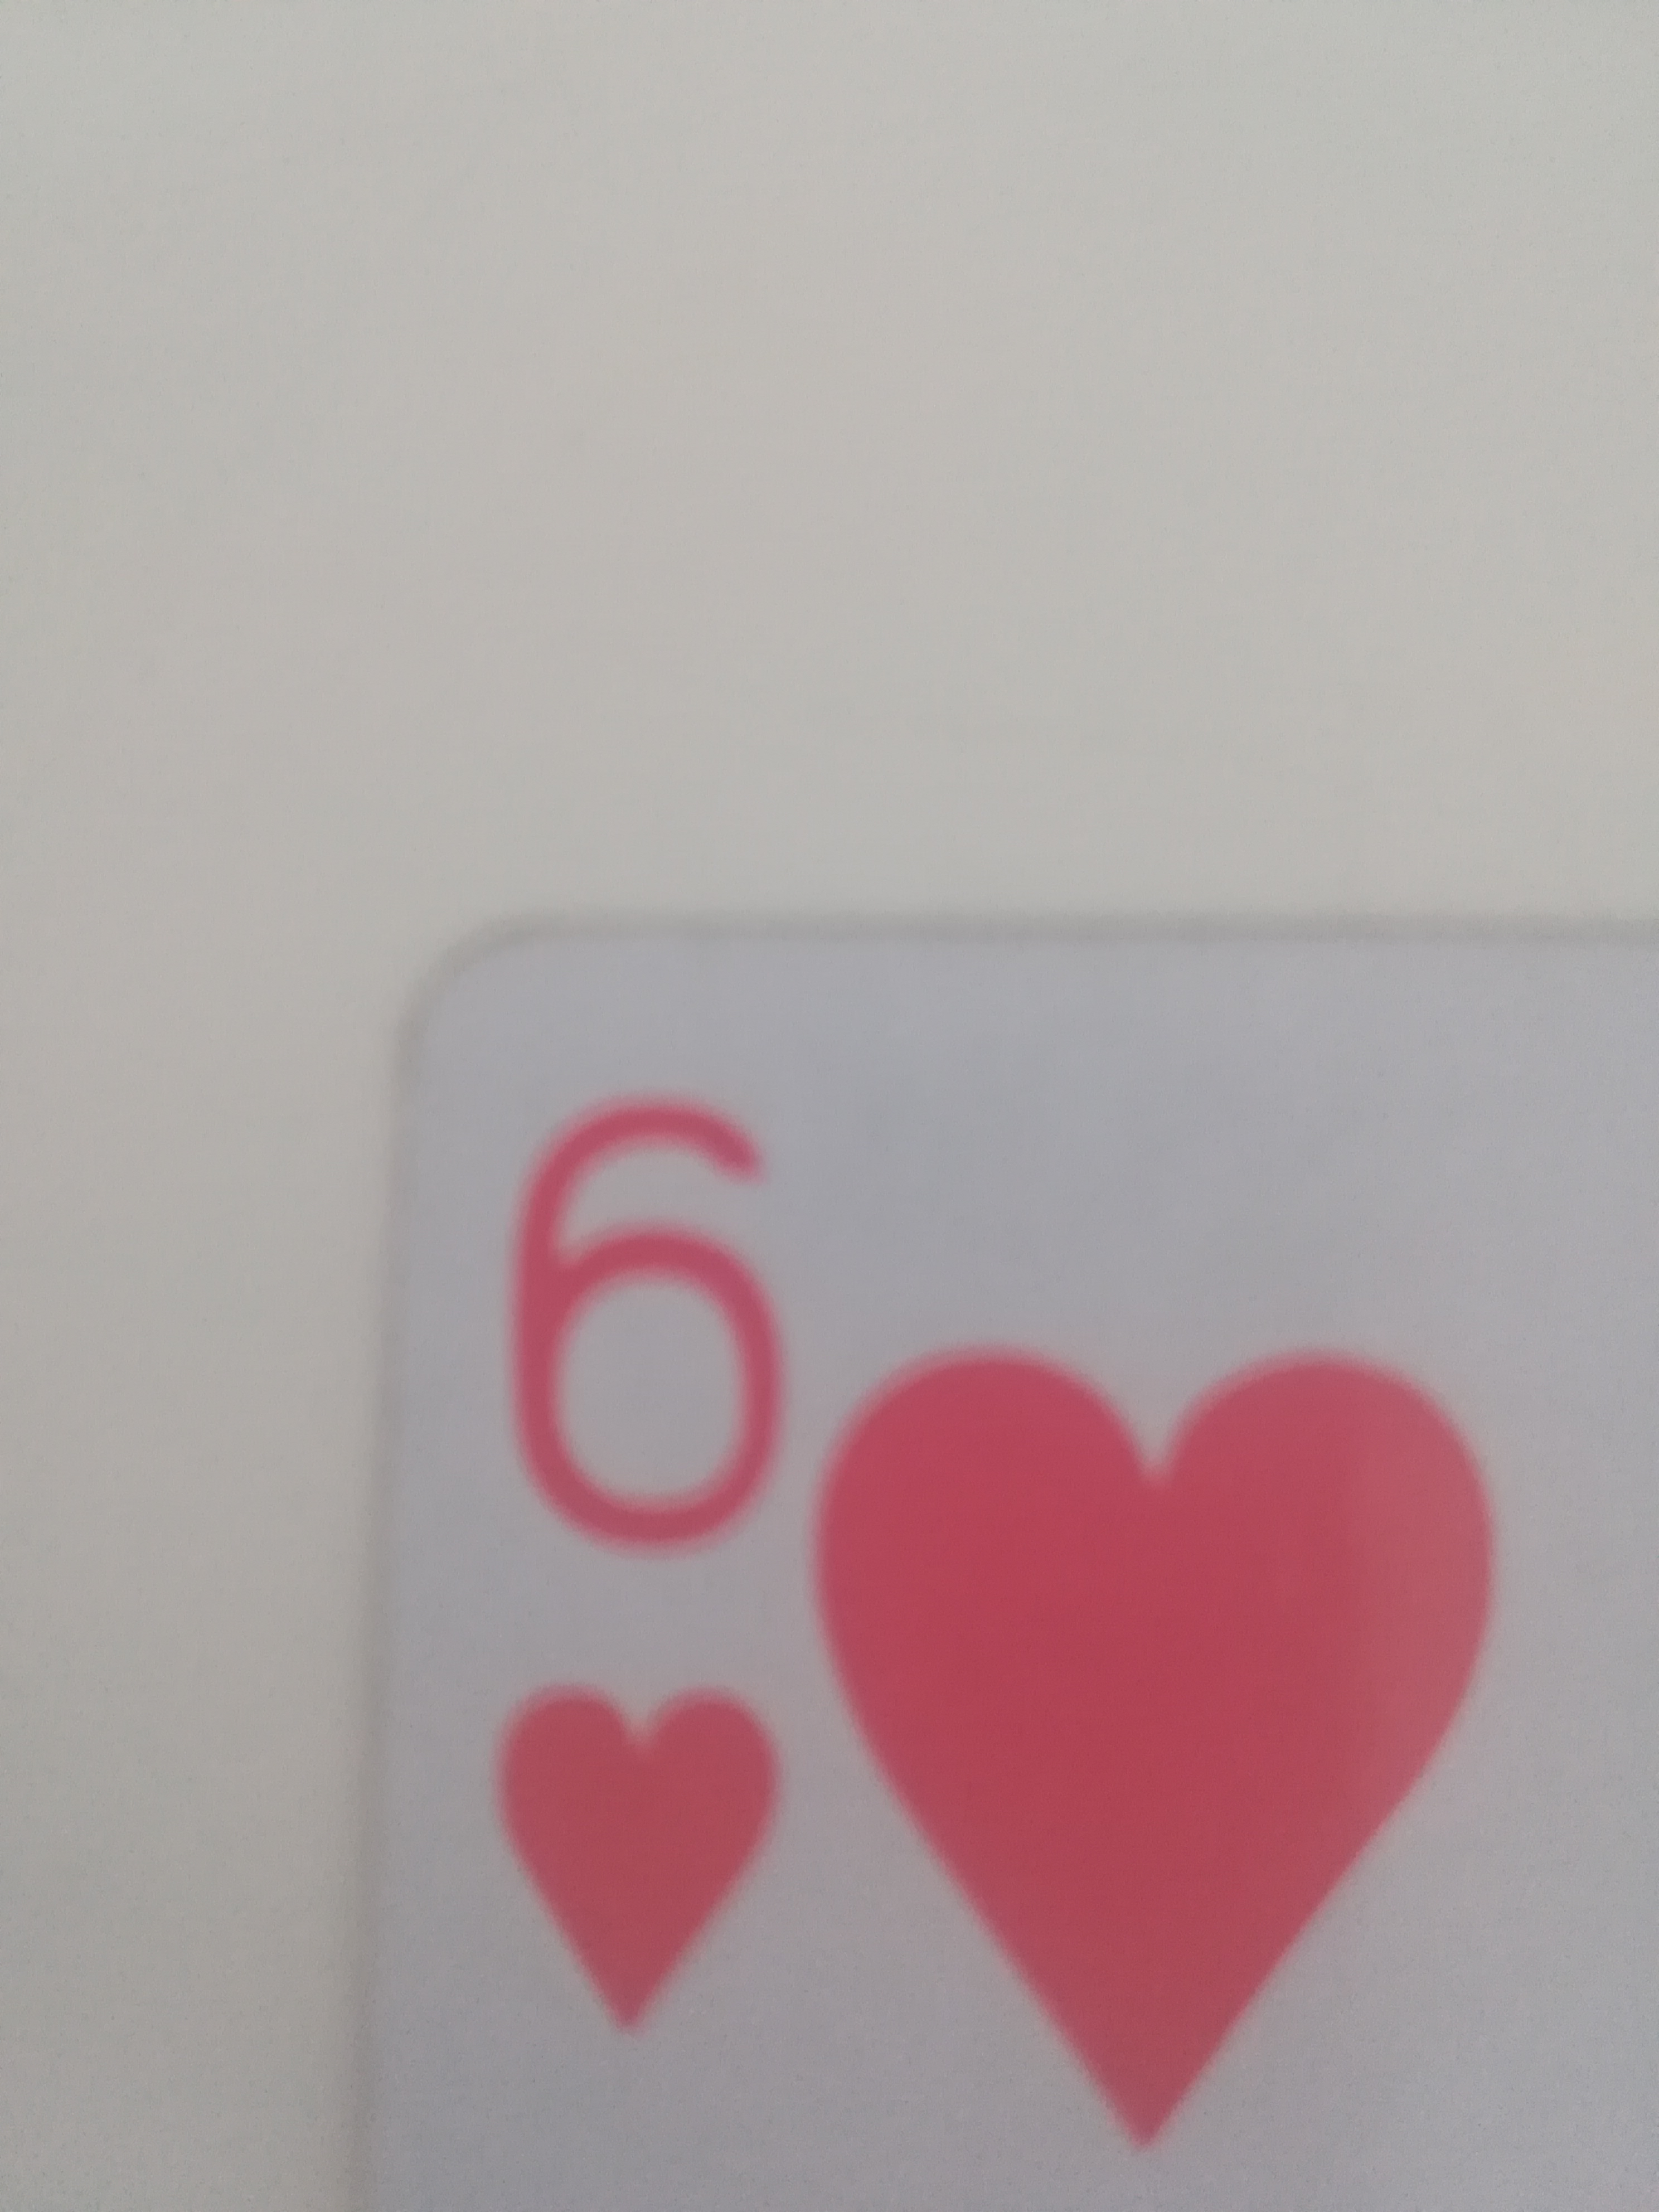6H: (369, 897, 1656, 2212)
